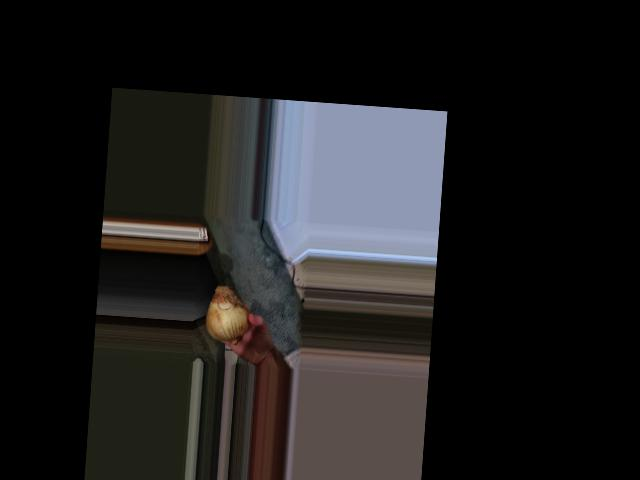onion: (207, 283, 253, 342)
